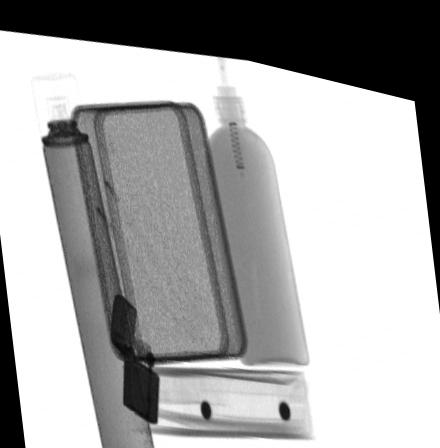Lighter: (109, 289, 160, 416)
Sprayer: (31, 71, 155, 448)
